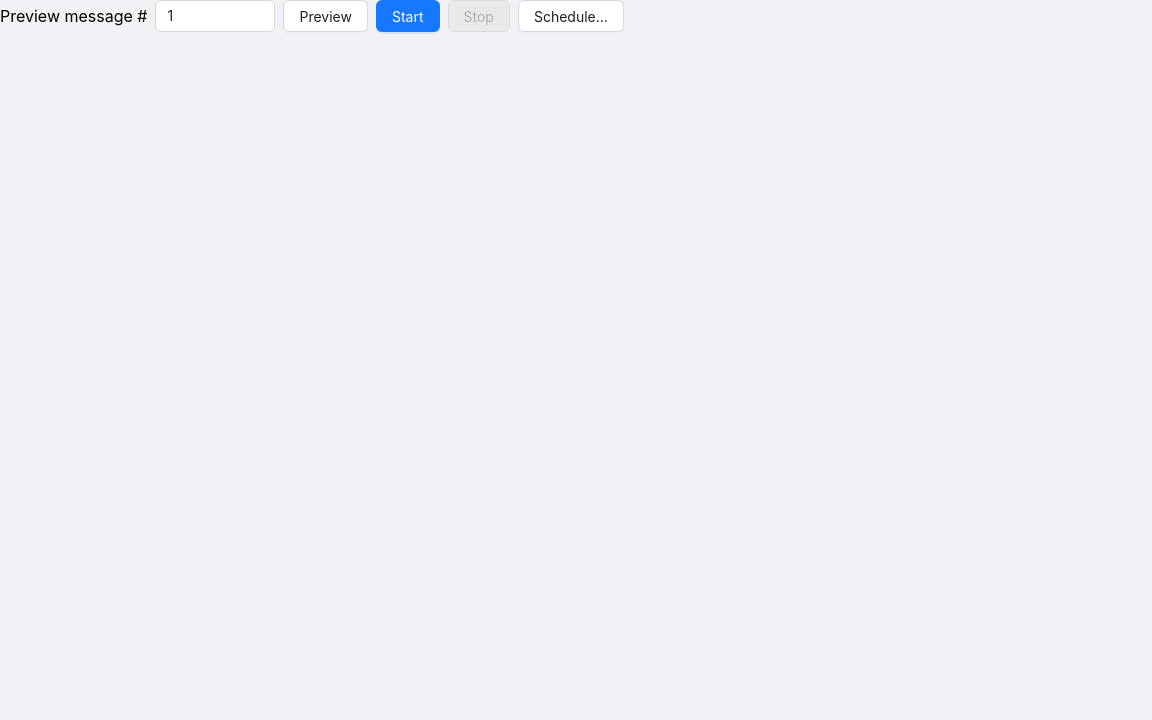
Test: GeneratorActions › warns inside the modal about missing value lists and substitutes empty strings
The image size is (1152, 720).
Click the button "Preview": coordinates (326, 16) 284,0 -> 368,32
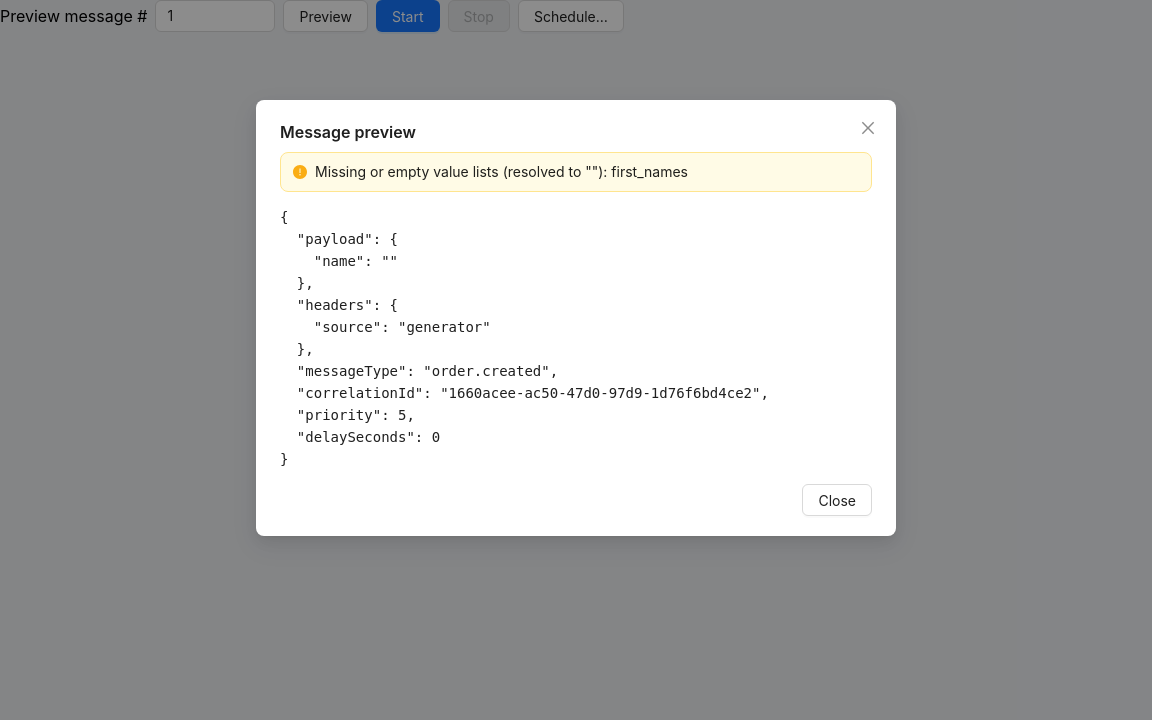
Expected: the element with test id "missing-lists-warning" shows "first_names", 315,163 -> 688,180
Expected: the element with test id "preview-modal" shows "\"name\": \"\"", 280,209 -> 769,467
